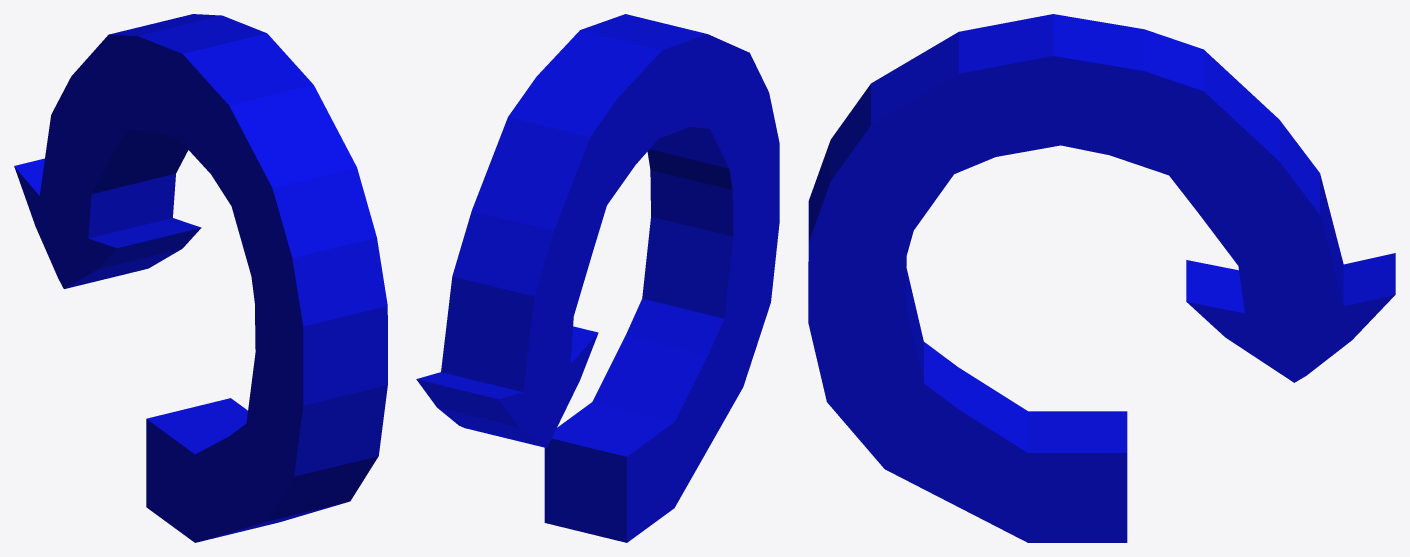
The model's file is ItemReload.fbx.
The picture shows the model from 3 angles, left to right: view 1: azimuth 30°, elevation 25°; view 2: azimuth 150°, elevation 25°; view 3: azimuth 270°, elevation 25°; orthographic projection. The views are drawn at different scales.
Parts seen in each view (by area): view 1: Cube; view 2: Cube; view 3: Cube.
Boxes of the visible parts, x1=… form: Cube: x1=14, y1=14, x2=387, y2=542; Cube: x1=416, y1=14, x2=779, y2=542; Cube: x1=808, y1=14, x2=1395, y2=542.
Size of the model in its own units: 200 by 1084 by 1184.
